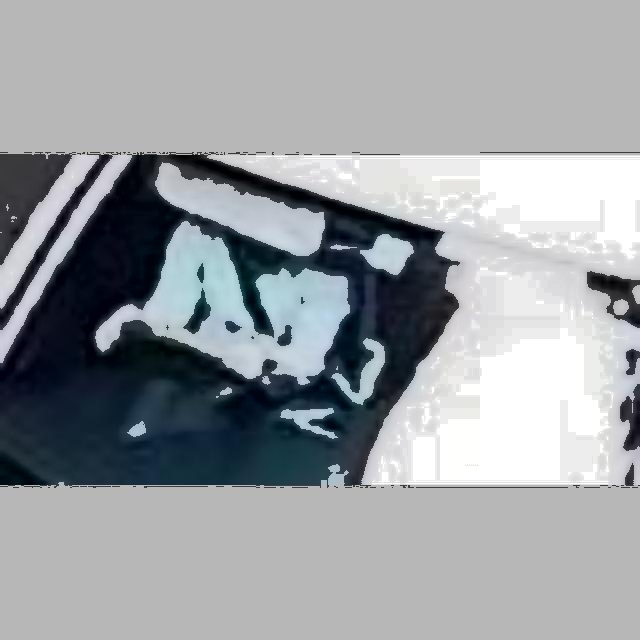pakai: (140, 235, 350, 400)
